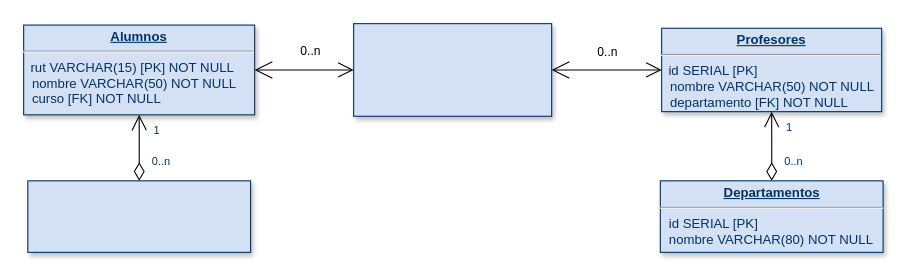
This 910x279 diagram has some shape labels left out. The shapes that lost their labels are listed below. From the top down, each one's centre as x and y in pixels, then its label:
point (453, 71): Pruebas alumno_id VARCHAR(15) [FK] profesor_id VARCHAR(50) [FK] puntaje INT
point (139, 217): Cursos id SERIAL [PK] nombre VARCHAR(80) NOT NULL
